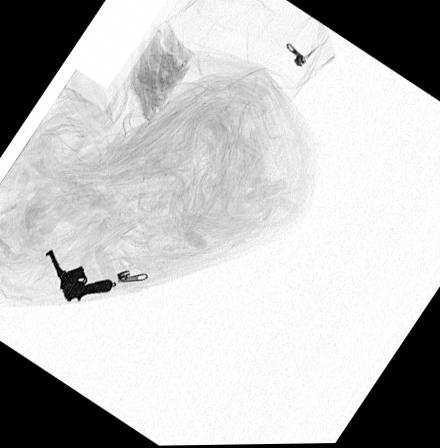Gun: (43, 246, 113, 303)
